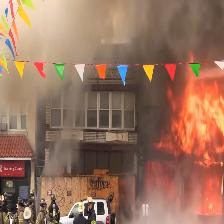fire: (169, 91, 224, 146)
smoke: (20, 5, 107, 75), (157, 0, 223, 87)
